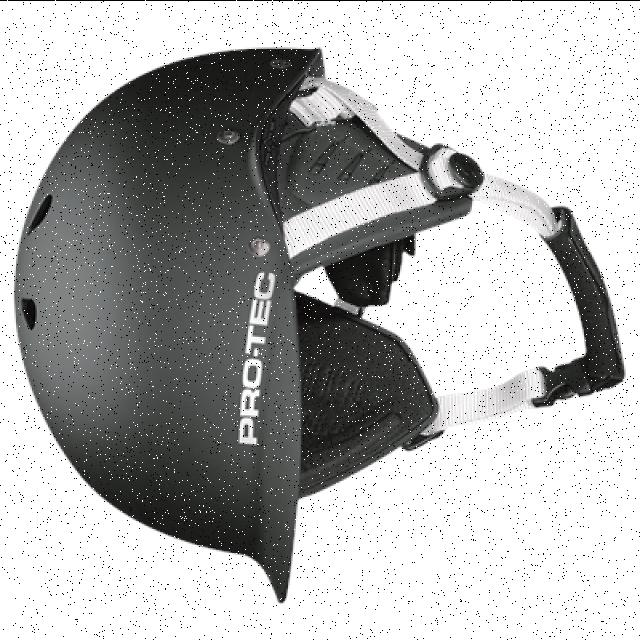Helmet: (14, 44, 364, 603)
